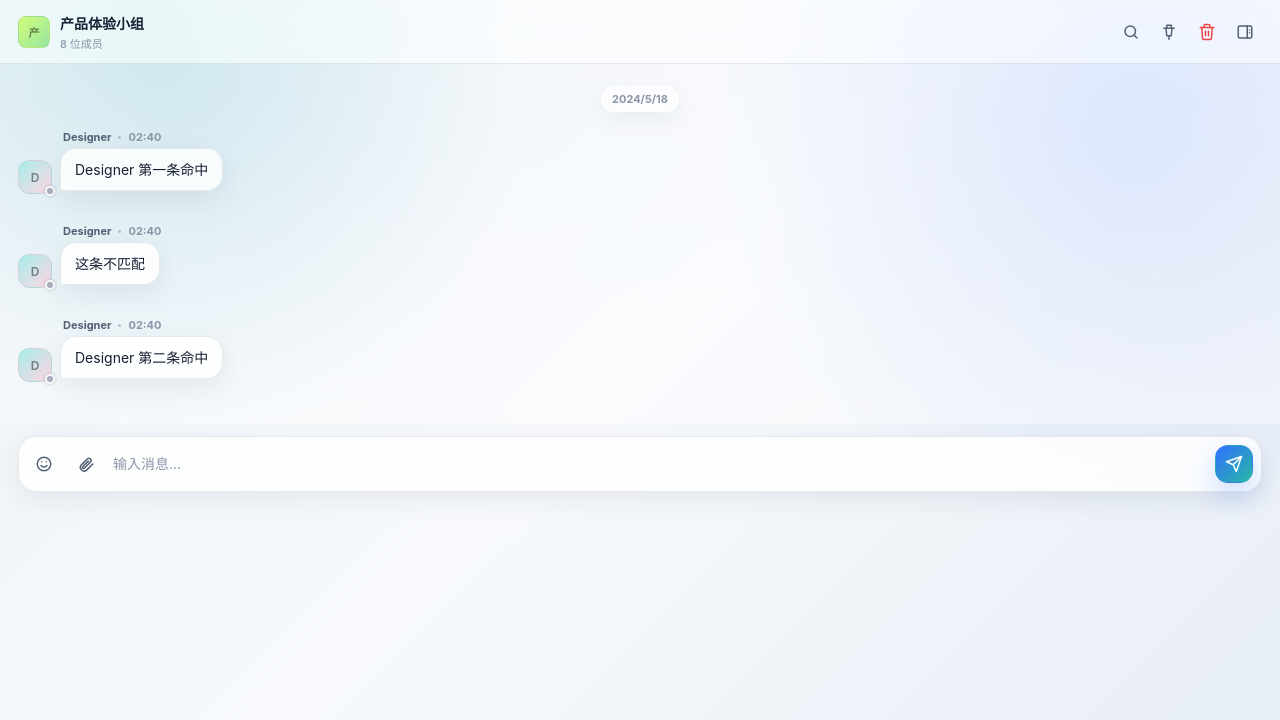
Test: ChatWindow › lets users step through in-chat search results
This screenshot has width=1280, height=720.
Click the button named "搜索消息" at point(1131, 32), box [1114, 14, 1148, 48]
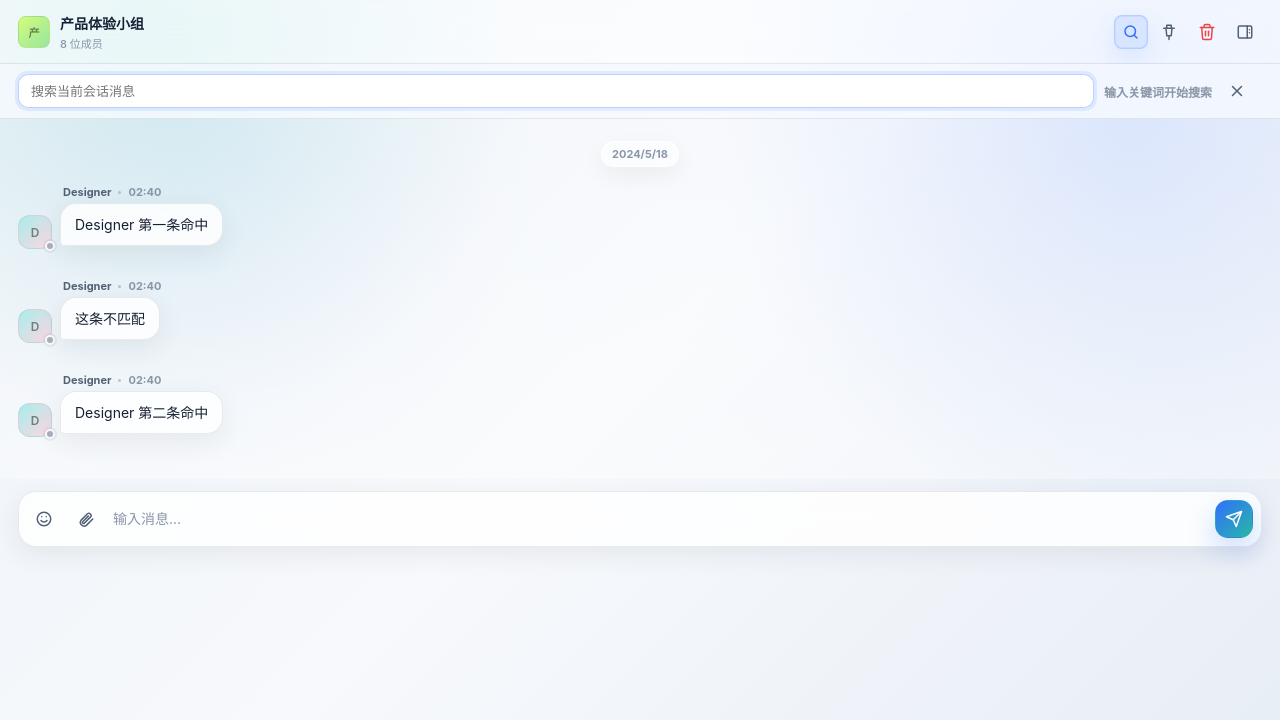
Type "Designer" into the field with placeholder "搜索当前会话消息" at point(556, 91), box [18, 74, 1094, 108]
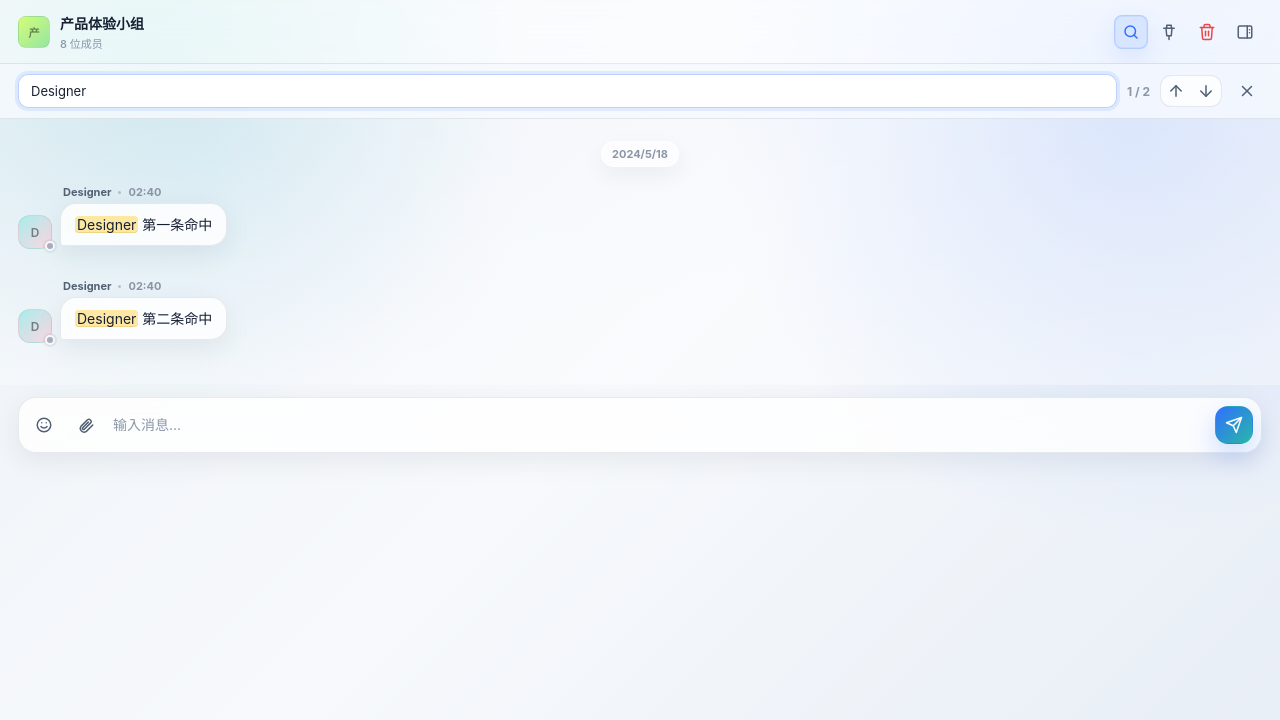
Now the text "1 / 2" is shown, box [1127, 84, 1150, 98]
Click the button named "下一条搜索结果" at point(1206, 91), box [1193, 78, 1219, 104]
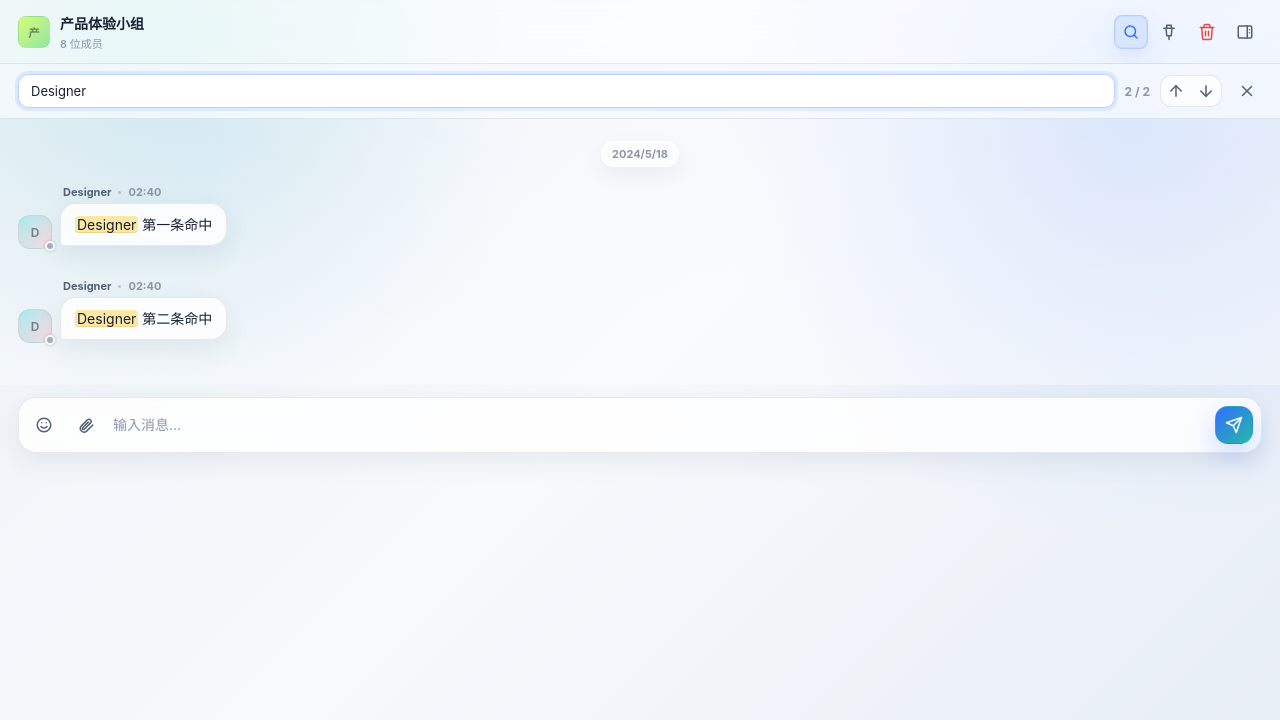
Now the text "2 / 2" is shown, box [1124, 84, 1150, 98]
Click the button named "上一条搜索结果" at point(1176, 91), box [1163, 78, 1189, 104]
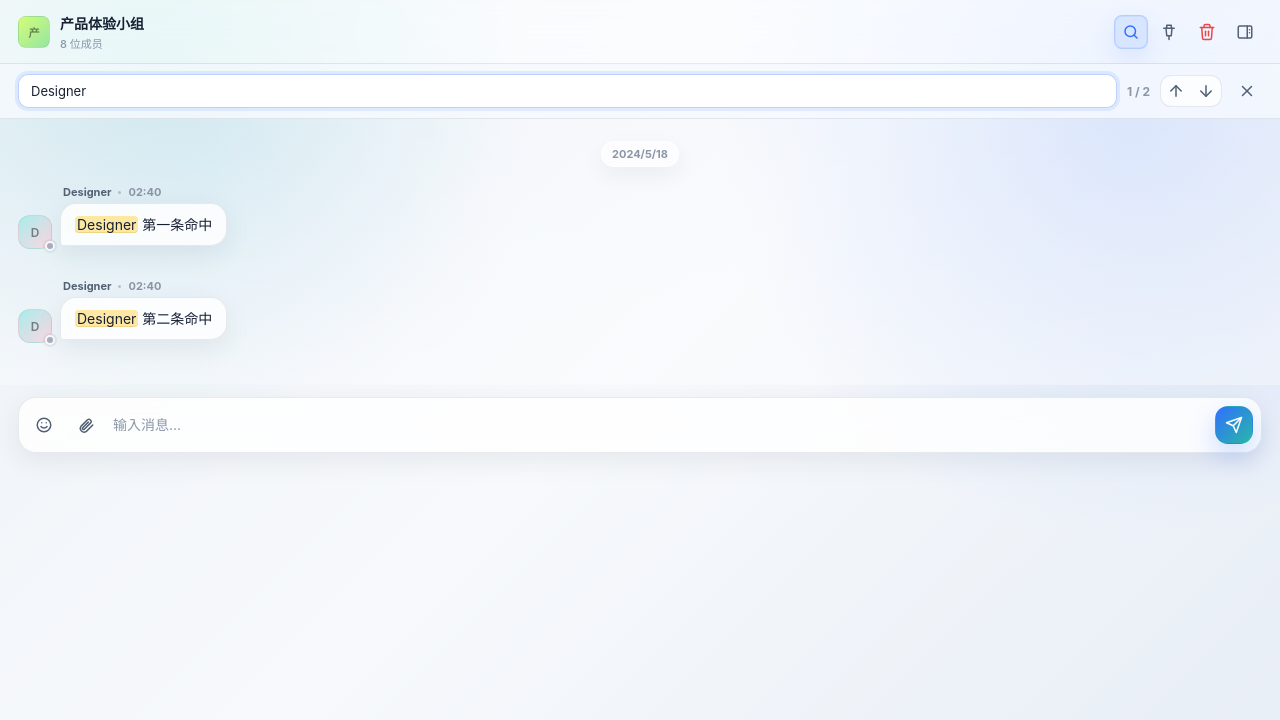
Now the text "1 / 2" is shown, box [1127, 84, 1150, 98]
